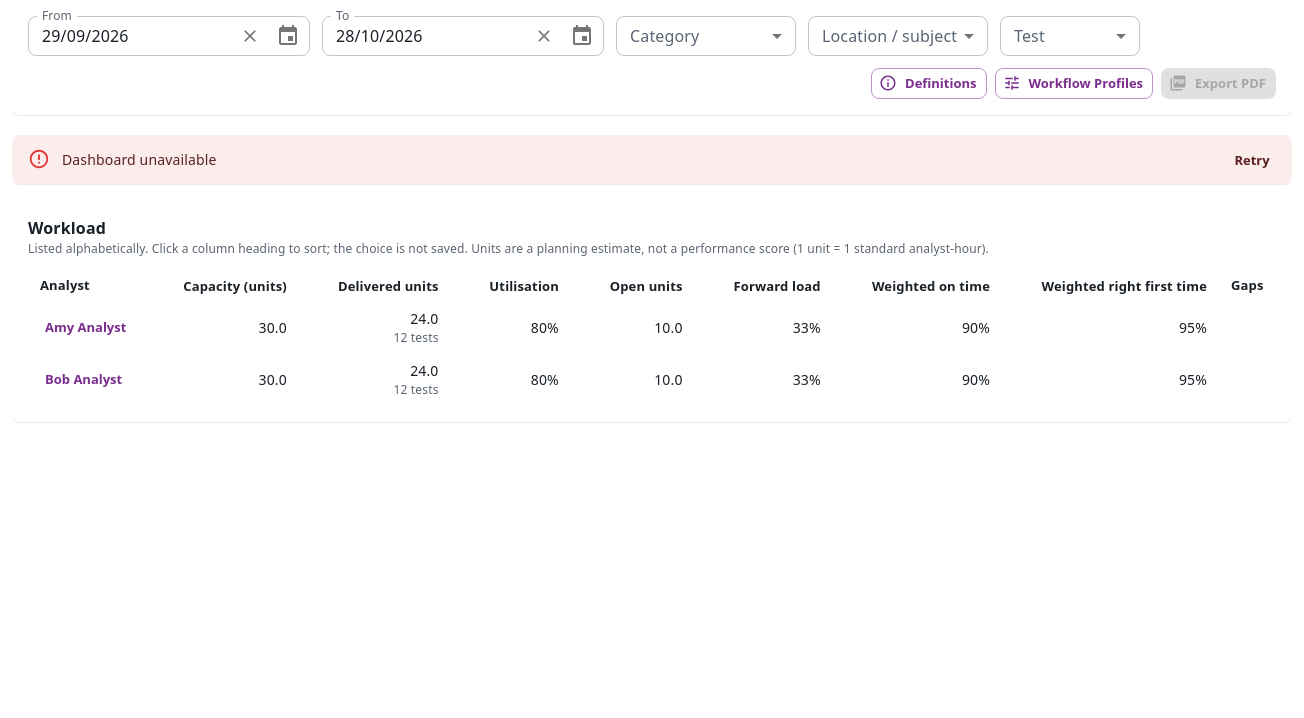
Test: KpiPerformanceTab › shows a dashboard failure with a retry that recovers
Expected: the text "Dashboard unavailable" is shown, [62, 150, 217, 169]
Click the button "Retry" at (1252, 160), box [1220, 145, 1284, 176]
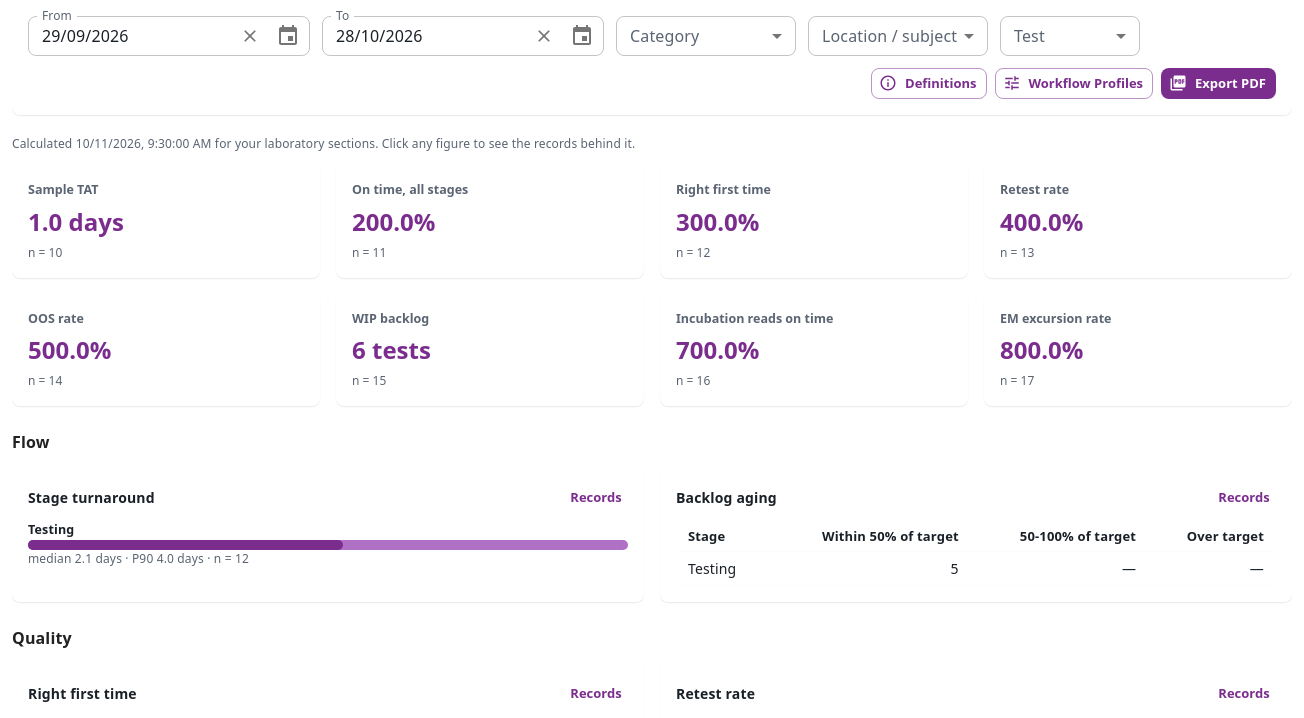
Expected: the button with aria-label "Sample TAT: " is shown, [12, 165, 320, 278]
